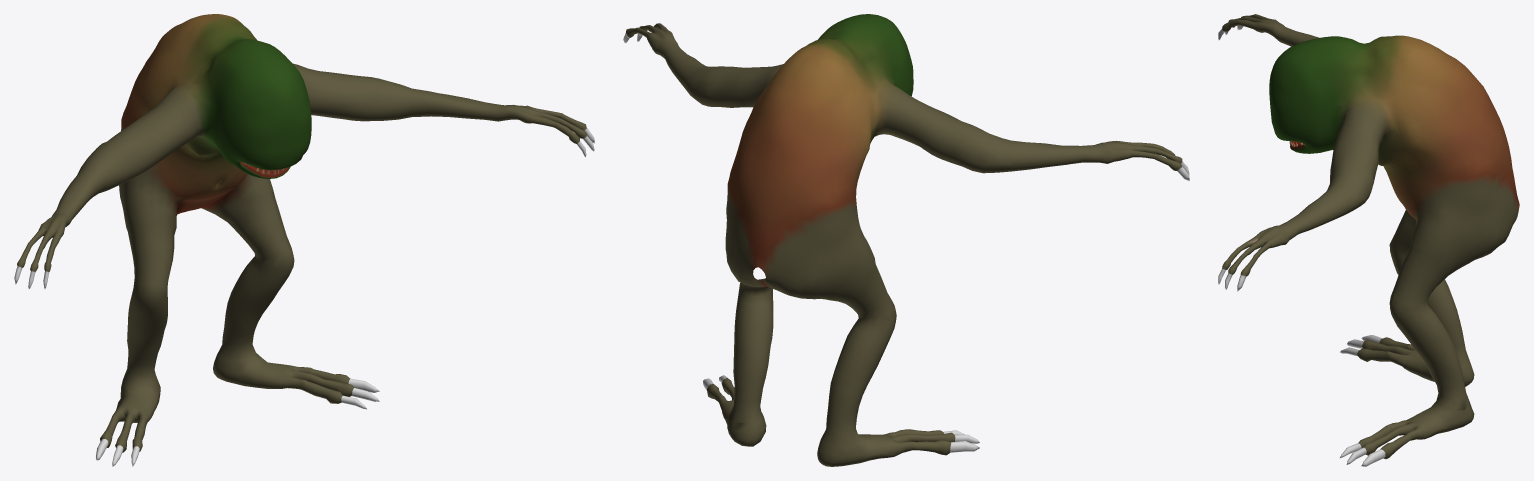
The model's file is troglodyte2.gltf.
The picture shows the model from 3 angles, left to right: view 1: azimuth 30°, elevation 25°; view 2: azimuth 150°, elevation 25°; view 3: azimuth 270°, elevation 25°; orthographic projection. The views are drawn at different scales.
Visible parts, largest first — view 1: Troglodyte; view 2: Troglodyte; view 3: Troglodyte.
Part boxes in pixels (<box>): Troglodyte: <box>14,14,594,466</box>; Troglodyte: <box>623,14,1189,466</box>; Troglodyte: <box>1218,14,1519,466</box>.
Bounding box in the file's own units: 14.27 × 9.32 × 6.95.
Materials: 3 (1 with a texture image).
